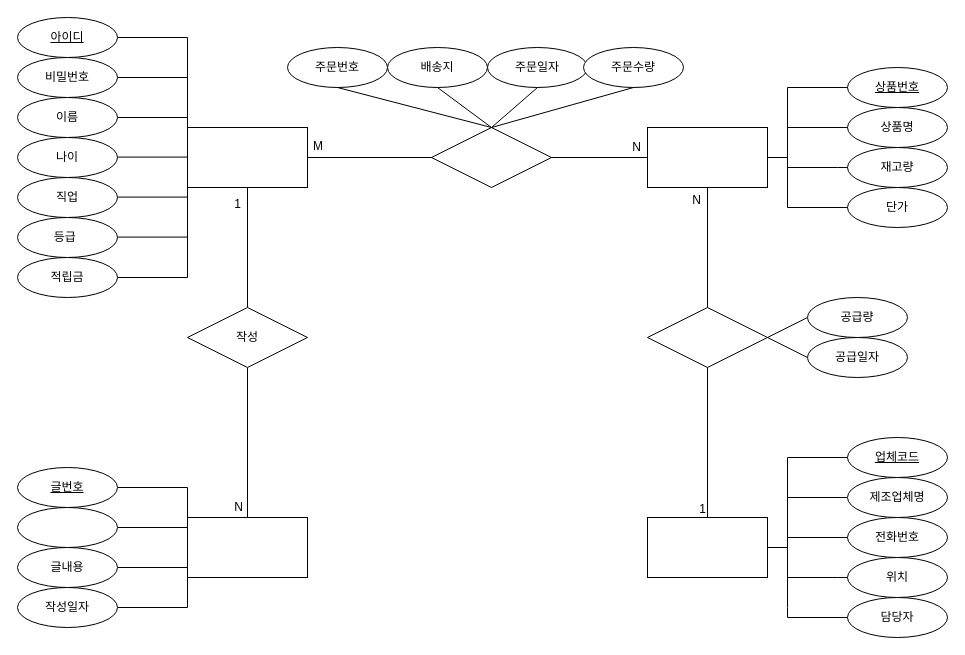
Image size: 965x655. Some labels were removed from this diagram. The shapes that lost their labels are listed below. From the top down, each one's centre as x and y in pixels, then its label:
the point at 247,157: 회원
the point at 491,157: 주문
the point at 707,157: 상품
the point at 707,337: 공급
the point at 67,527: 글제목
the point at 247,547: 게시글
the point at 707,547: 제조업체
